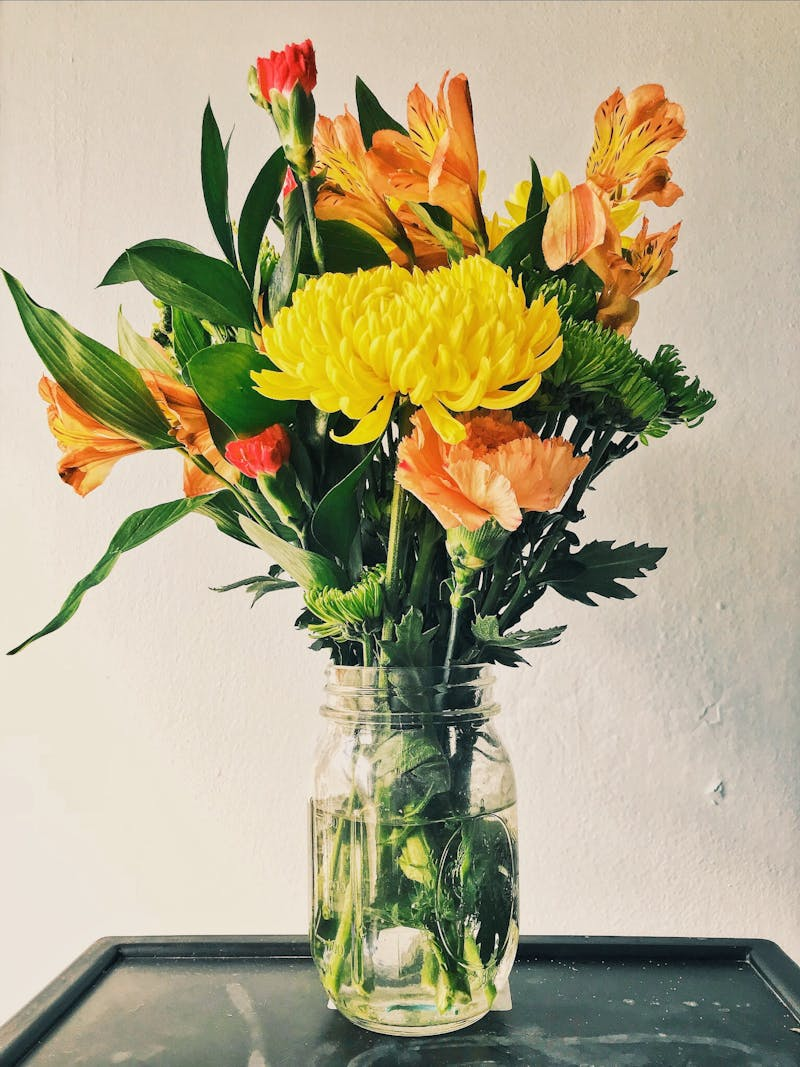Orange: (394, 412, 592, 554), (36, 374, 201, 491), (370, 68, 474, 230), (303, 111, 406, 264), (580, 79, 685, 204), (595, 220, 690, 325)
Pink: (253, 38, 324, 109), (223, 427, 294, 484)
Yellow: (251, 252, 574, 443), (504, 165, 563, 242)
